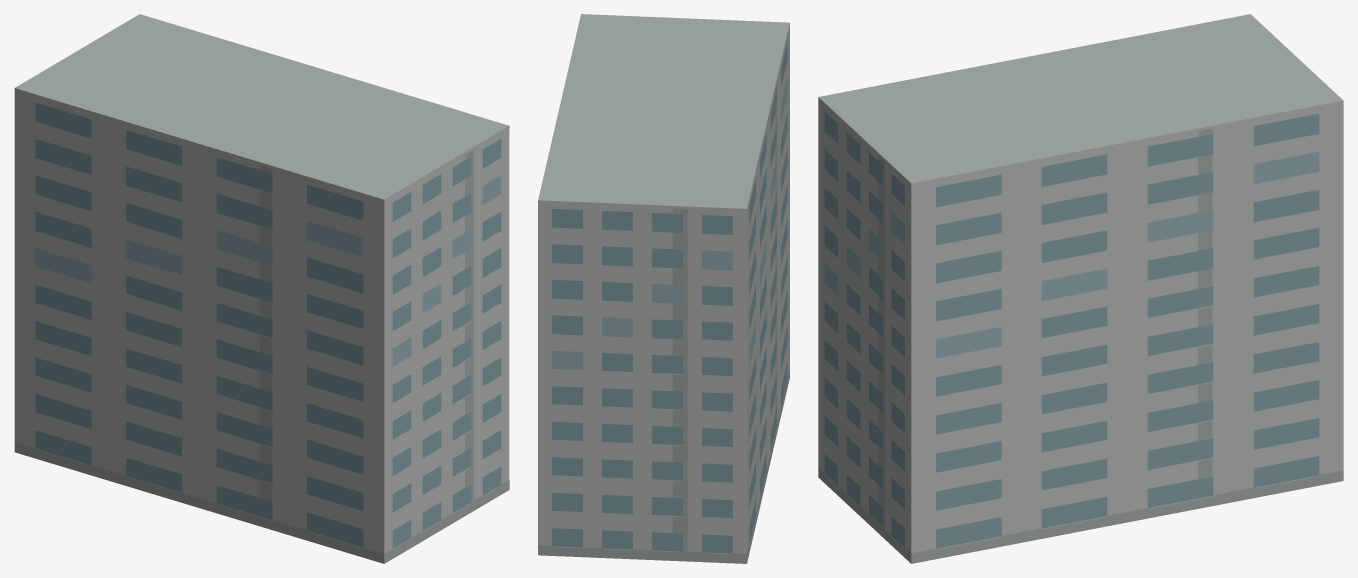
File: residential-197c3f31-2cc5-4f8e-83cd-75dcd2223f0b.glb
The picture shows the model from 3 angles, left to right: view 1: azimuth 30°, elevation 25°; view 2: azimuth 150°, elevation 25°; view 3: azimuth 270°, elevation 25°; orthographic projection. The views are drawn at different scales.
Parts seen in each view (by area): view 1: residential-197c3f31-2cc5-4f8e-83cd-75dcd2223f0b.tmp; view 2: residential-197c3f31-2cc5-4f8e-83cd-75dcd2223f0b.tmp; view 3: residential-197c3f31-2cc5-4f8e-83cd-75dcd2223f0b.tmp.
Part boxes in pixels (left/top/right/bottom): residential-197c3f31-2cc5-4f8e-83cd-75dcd2223f0b.tmp: left=14, top=14, right=509, bottom=563; residential-197c3f31-2cc5-4f8e-83cd-75dcd2223f0b.tmp: left=538, top=14, right=789, bottom=563; residential-197c3f31-2cc5-4f8e-83cd-75dcd2223f0b.tmp: left=818, top=14, right=1343, bottom=563.
Bounding box in the file's own units: 29.63 × 31 × 38.79.
